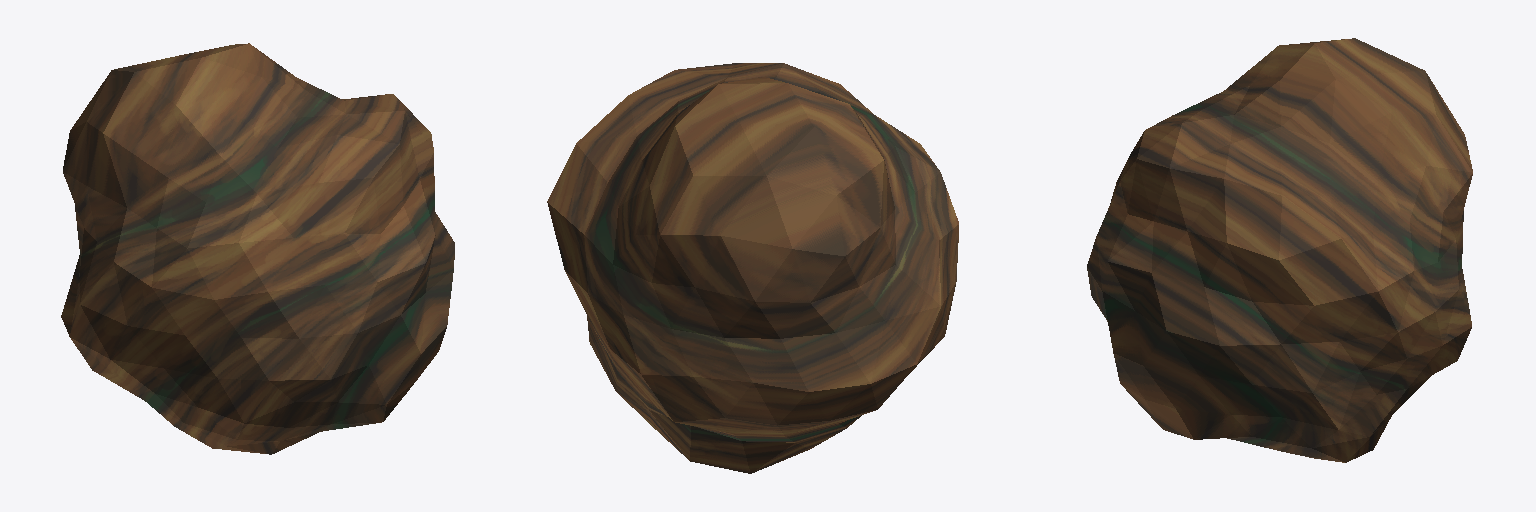
3 renders of one model, left to right at view 1: azimuth 30°, elevation 25°; view 2: azimuth 150°, elevation 25°; view 3: azimuth 270°, elevation 25°, orthographic.
Parts seen in each view (by area): view 1: Icosphere; view 2: Icosphere; view 3: Icosphere.
Part boxes in pixels (left/top/right/bottom): Icosphere: left=61, top=43, right=454, bottom=454; Icosphere: left=547, top=63, right=958, bottom=473; Icosphere: left=1087, top=38, right=1472, bottom=462.
Size of the model in its own units: 2.23 by 2.38 by 2.14.
Materials: 1 (1 with a texture image).